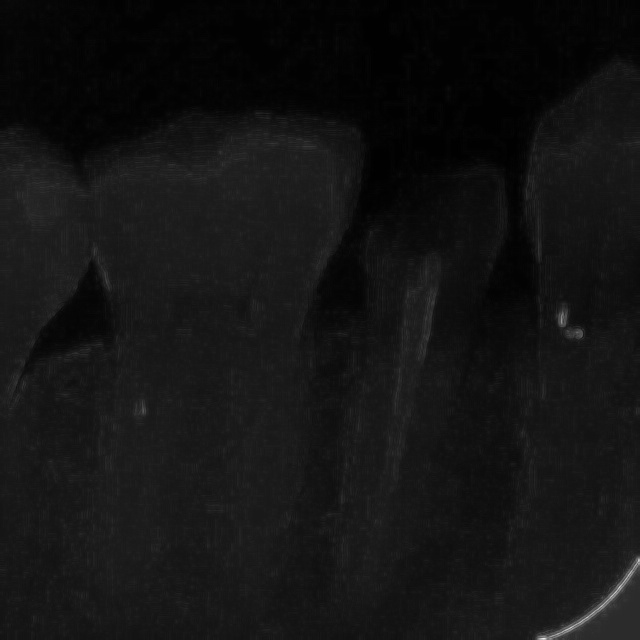Class 0- No endodontic treatment: (335, 158, 517, 632)
cavity: (81, 88, 349, 640)
